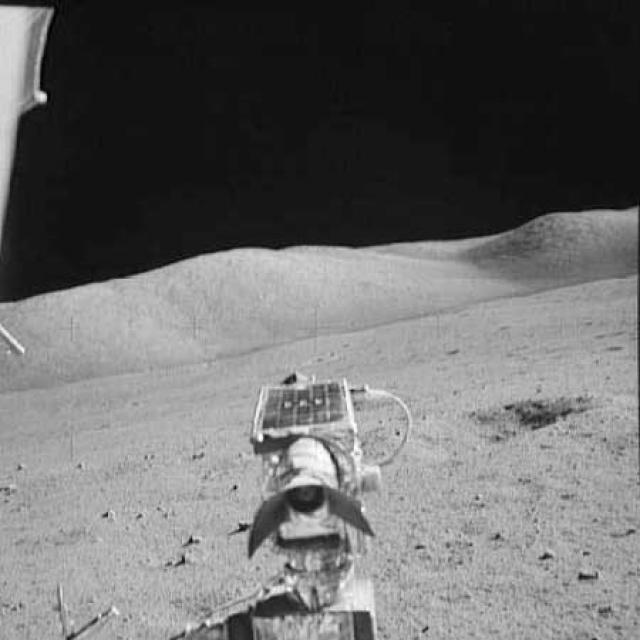artifact: (198, 358, 424, 638), (0, 4, 60, 356)
crater: (462, 391, 587, 438)
rock: (576, 564, 597, 586)
